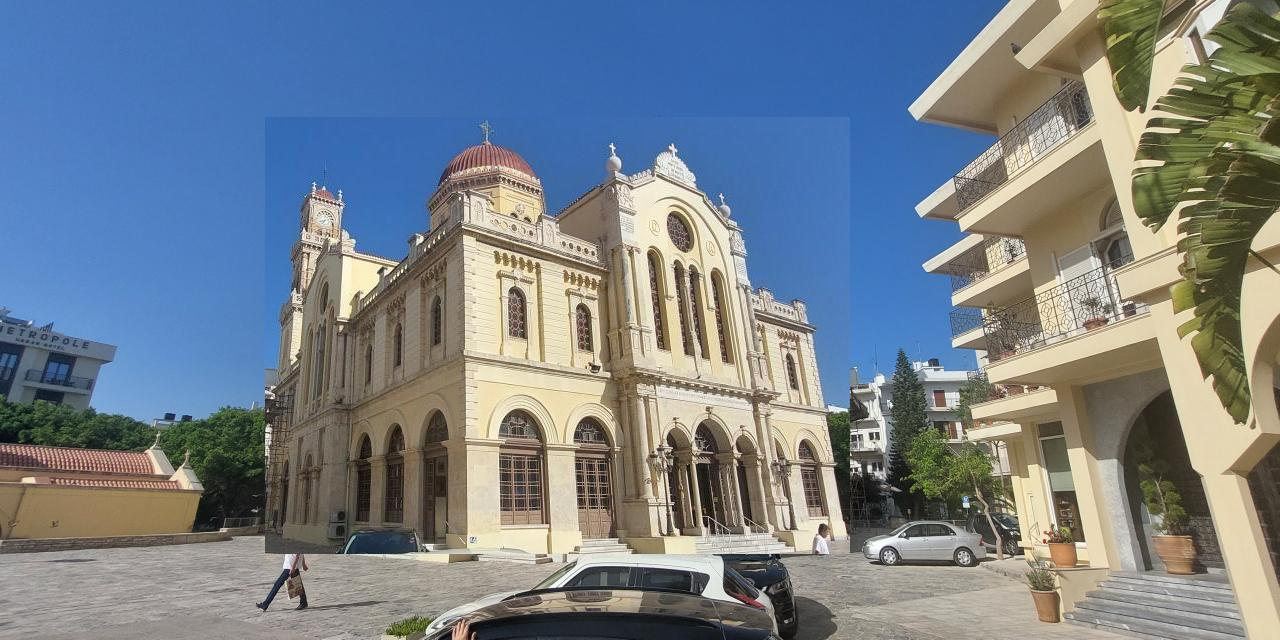Agios Minas: (266, 118, 851, 555)
